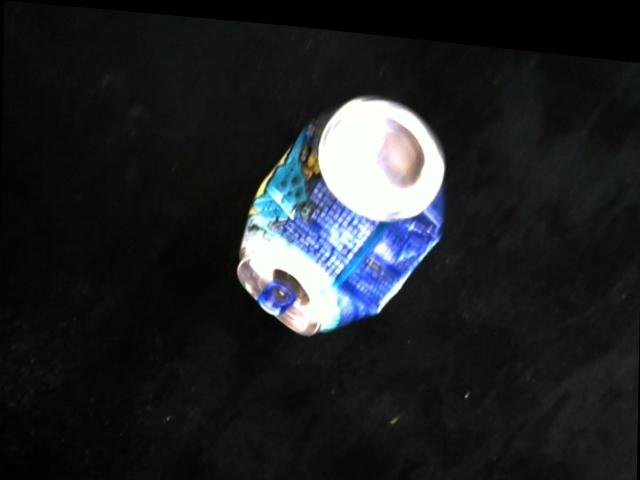can: (234, 91, 442, 331)
